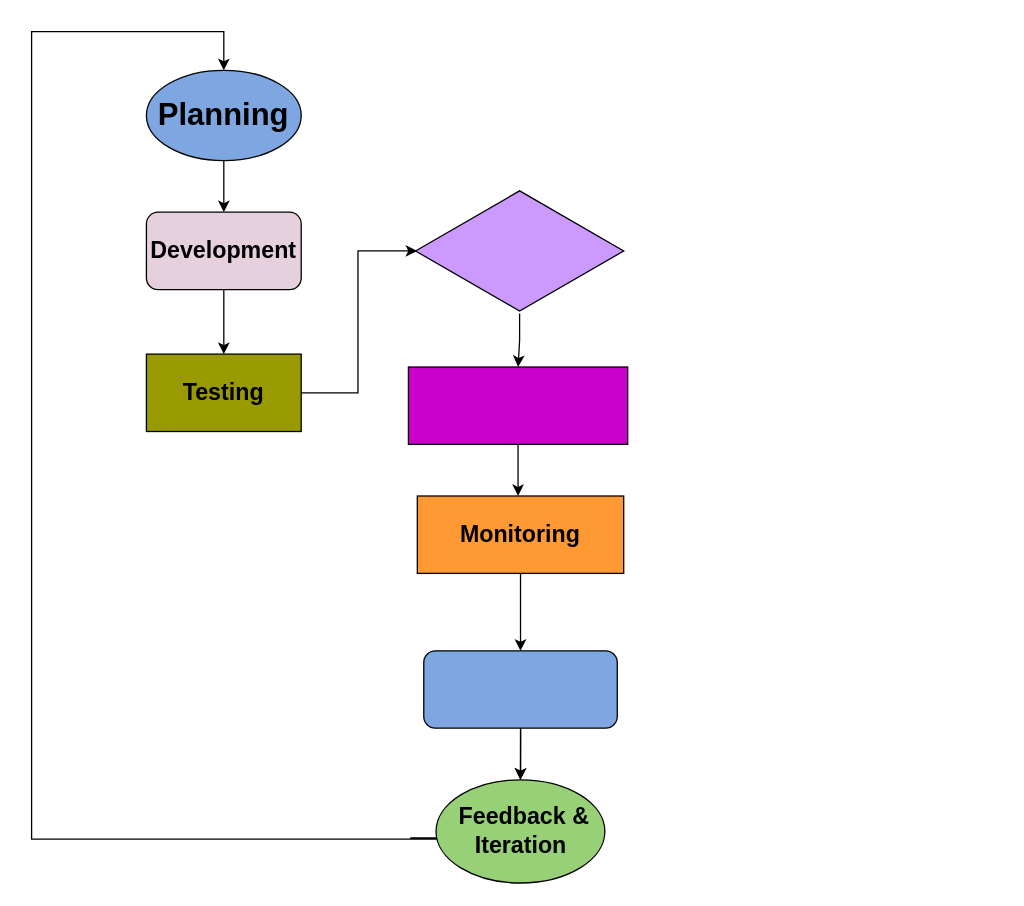
The diagram is 1024 pixels wide and 906 high, and some of its shapes have lost their labels. Each missing label, with the centre of its shape:
Continuous Delivery: point 517,405
Continuous Integration: point 519,250
Security: point 519,689
